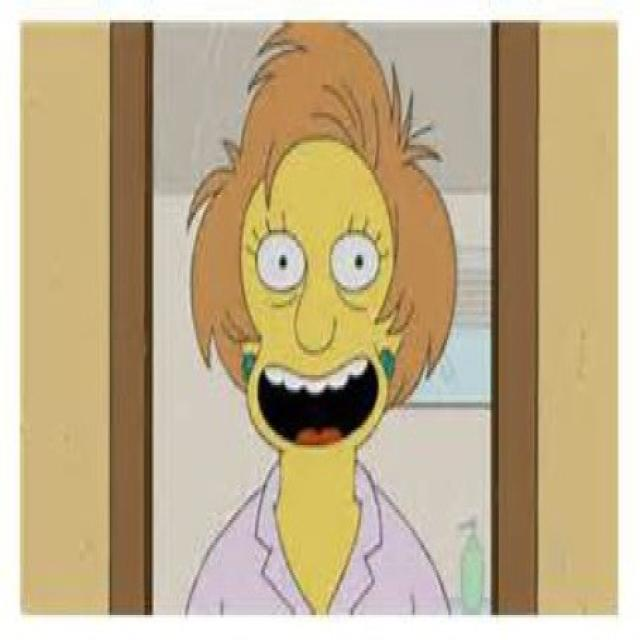Edna Krappel: (182, 21, 461, 519)
